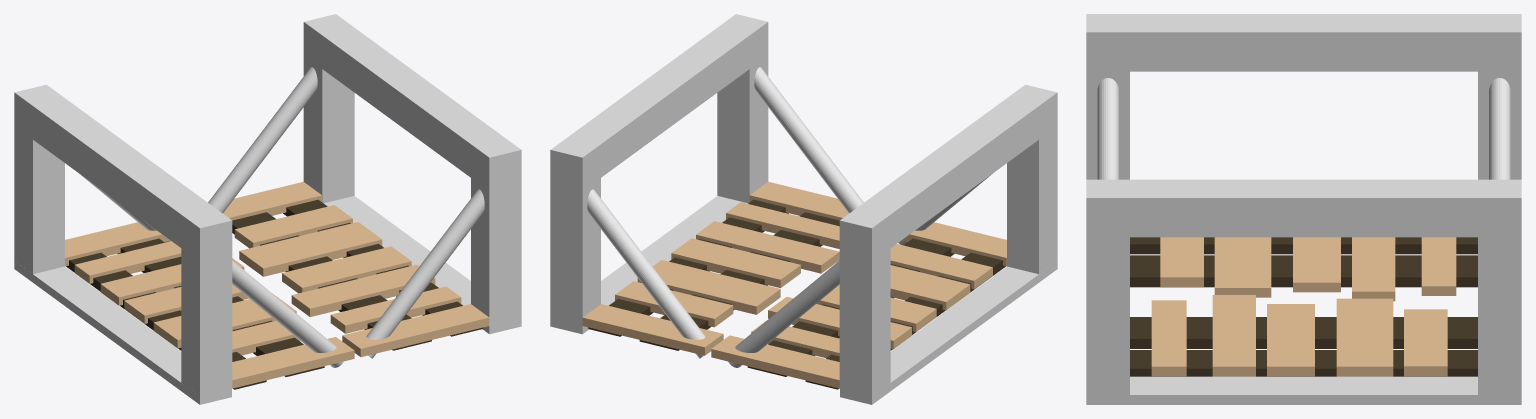
Rendered from medievalDrawbridge.fbx.
3 views of the same model, side by side, from view 1: azimuth 30°, elevation 25°; view 2: azimuth 150°, elevation 25°; view 3: azimuth 270°, elevation 25° (orthographic). The views are drawn at different scales.
Visible parts, largest first — view 1: Gate, Gate.001, visual drawbridge.001, visual drawbridge, drawbridge gatefloor.001, Cylinder.002, drawbridge gatefloor, Cylinder.003, Cylinder.001; view 2: Gate, Gate.001, visual drawbridge.001, visual drawbridge, drawbridge gatefloor.001, Cylinder.003, drawbridge gatefloor, Cylinder.002, Cylinder; view 3: Gate.001, Gate, visual drawbridge.001, visual drawbridge, drawbridge gatefloor, Cylinder.001, Cylinder.
Boxes of the visible parts, x1,y1,x2,y2 form: Gate: [14, 84, 232, 396]; Gate.001: [303, 14, 521, 325]; visual drawbridge.001: [223, 181, 489, 357]; visual drawbridge: [65, 222, 354, 389]; drawbridge gatefloor.001: [14, 261, 231, 404]; Cylinder.002: [366, 189, 484, 358]; drawbridge gatefloor: [324, 196, 521, 334]; Cylinder.003: [208, 67, 317, 213]; Cylinder.001: [232, 260, 343, 367]; Gate: [839, 84, 1057, 396]; Gate.001: [550, 14, 768, 325]; visual drawbridge.001: [582, 181, 848, 355]; visual drawbridge: [711, 222, 1006, 389]; drawbridge gatefloor.001: [840, 261, 1057, 404]; Cylinder.003: [587, 189, 705, 358]; drawbridge gatefloor: [550, 196, 747, 334]; Cylinder.002: [754, 67, 863, 213]; Cylinder: [728, 260, 839, 367]; Gate.001: [1086, 179, 1521, 394]; Gate: [1086, 14, 1521, 179]; visual drawbridge.001: [1130, 295, 1477, 376]; visual drawbridge: [1130, 237, 1477, 301]; drawbridge gatefloor: [1086, 376, 1521, 404]; Cylinder.001: [1097, 78, 1118, 179]; Cylinder: [1489, 78, 1510, 179].
Size of what is drawn, in the model's own units: 200 by 107 by 200.
